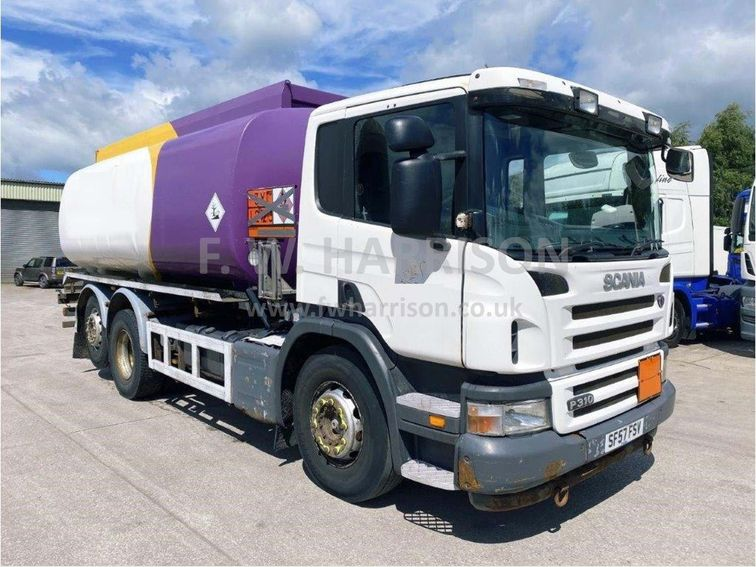Semi: (59, 79, 694, 512)
